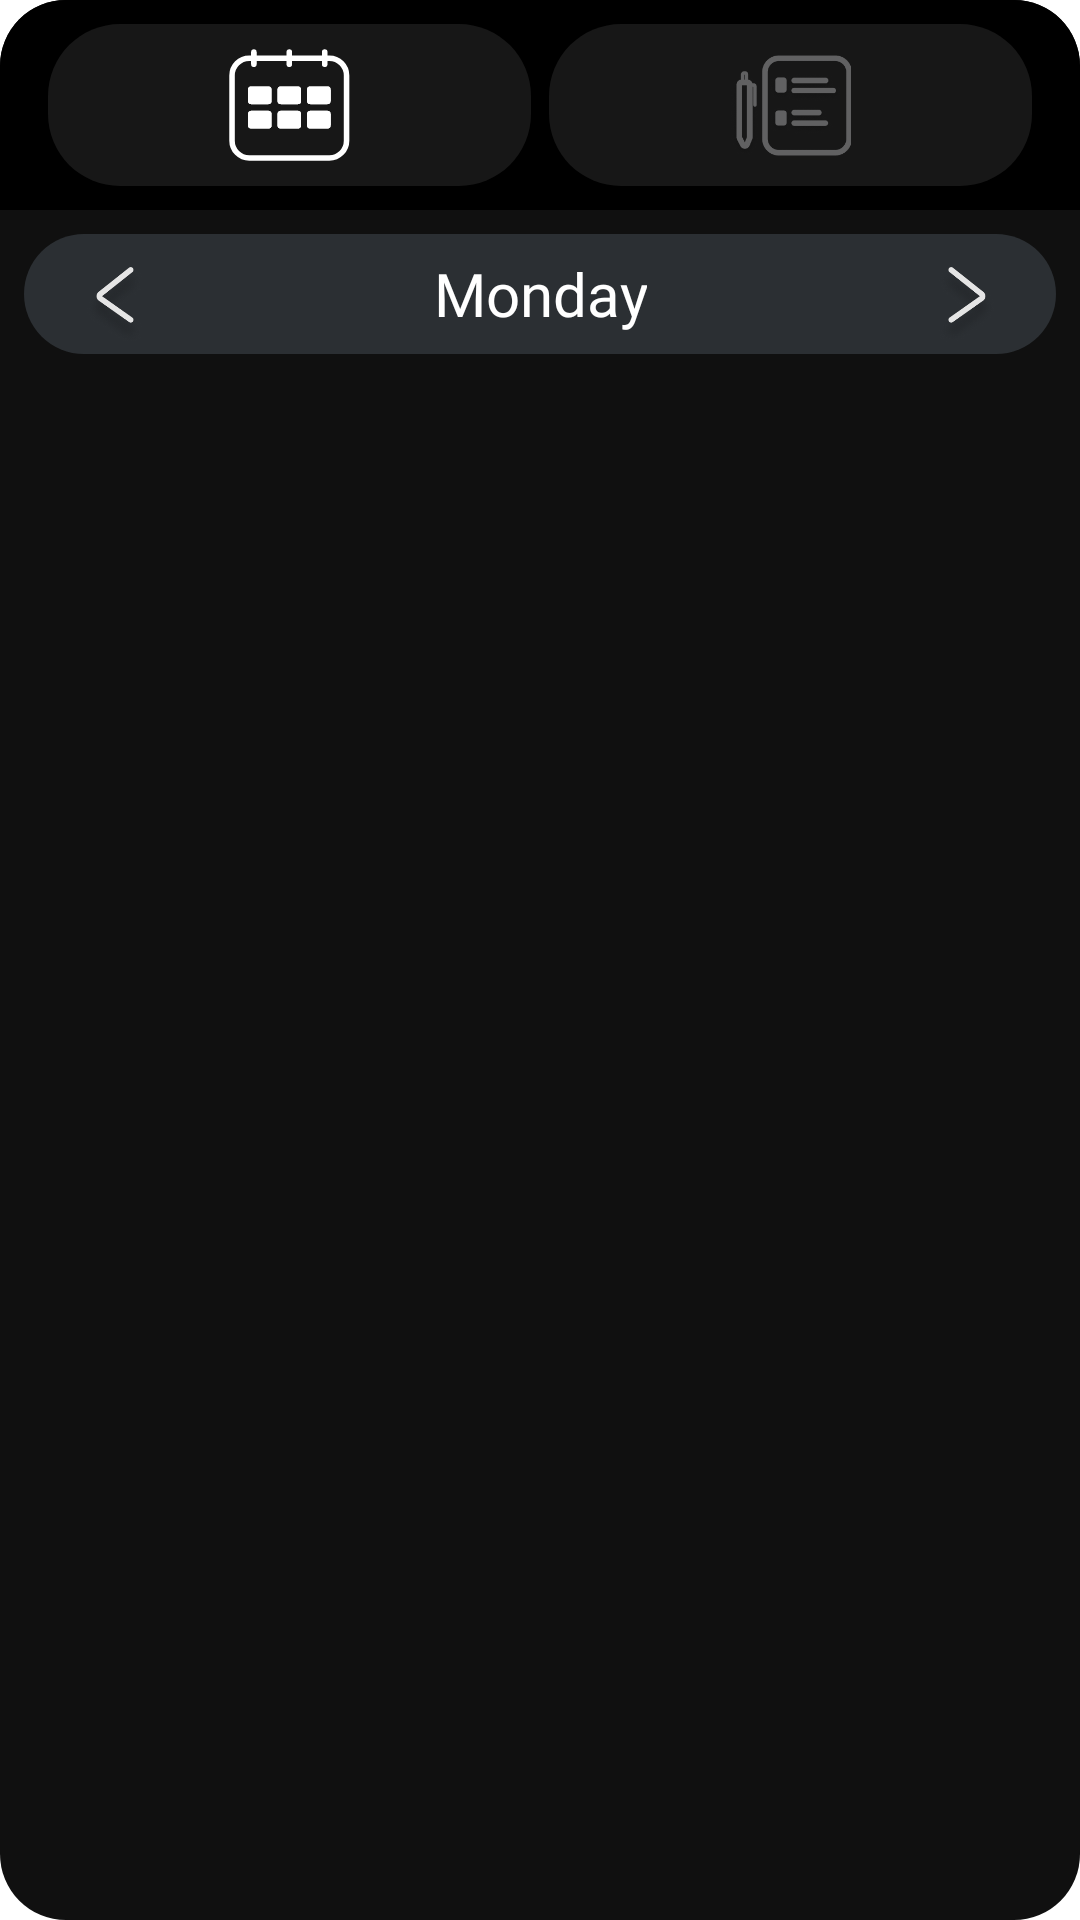

Icon click points for this 1080w x 1920h phone screenshot, format (x,y):
arrow left: (99,294)
arrow right: (981,294)
assignment: (793,105)
timetable: (289,105)
